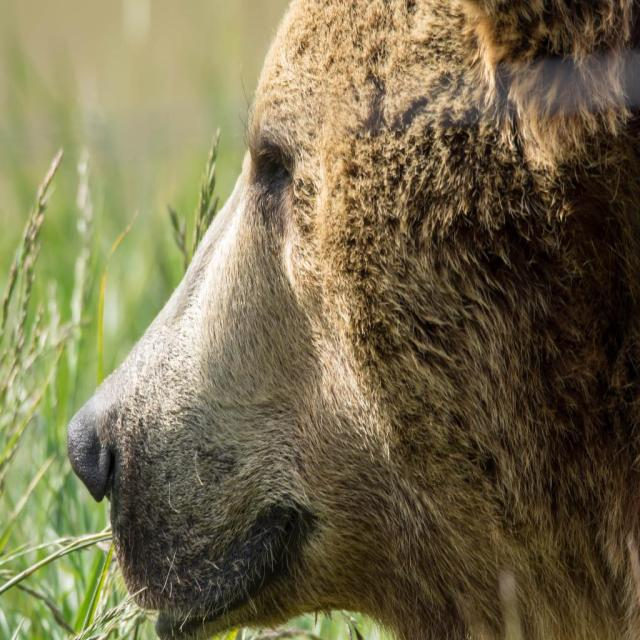Cheetahs: (65, 0, 639, 639)
